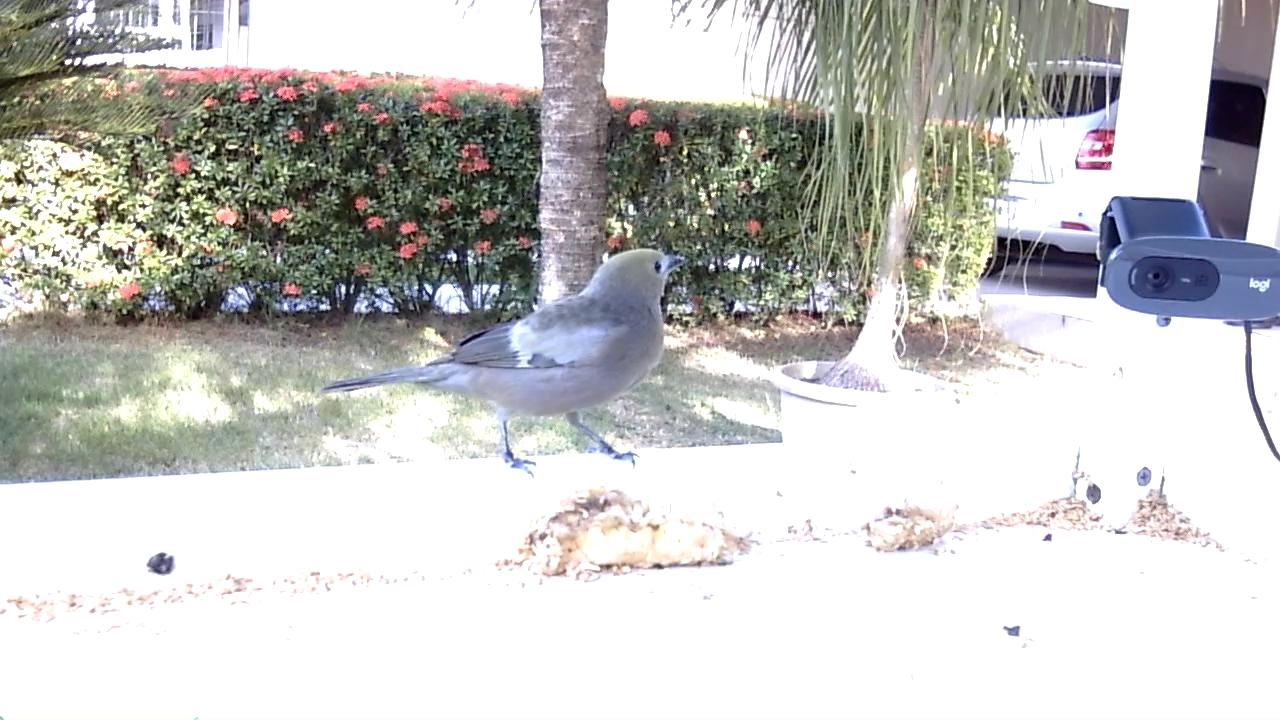sanhaco_do_coqueiro: (323, 249, 689, 481)
